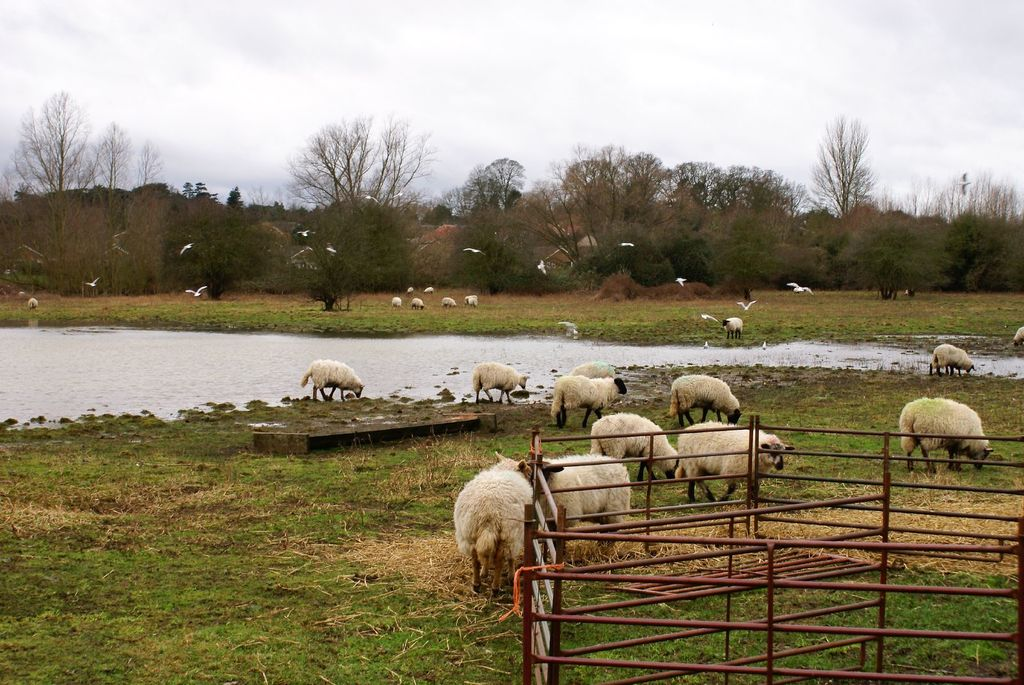sheep: (298, 358, 366, 401), (474, 361, 527, 404), (928, 343, 973, 374), (722, 317, 743, 338)
